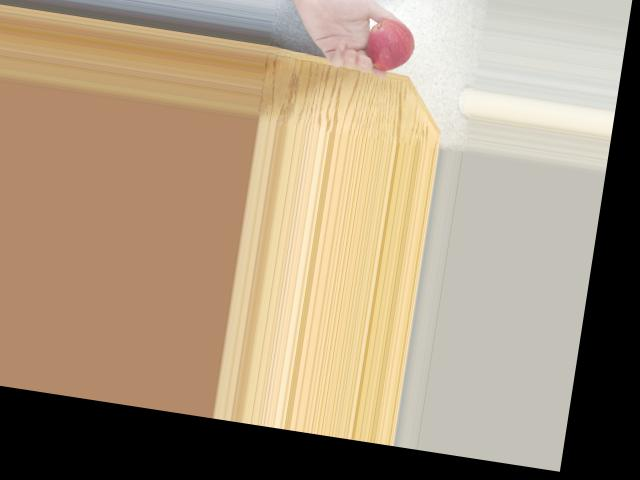apple: (363, 16, 420, 72)
